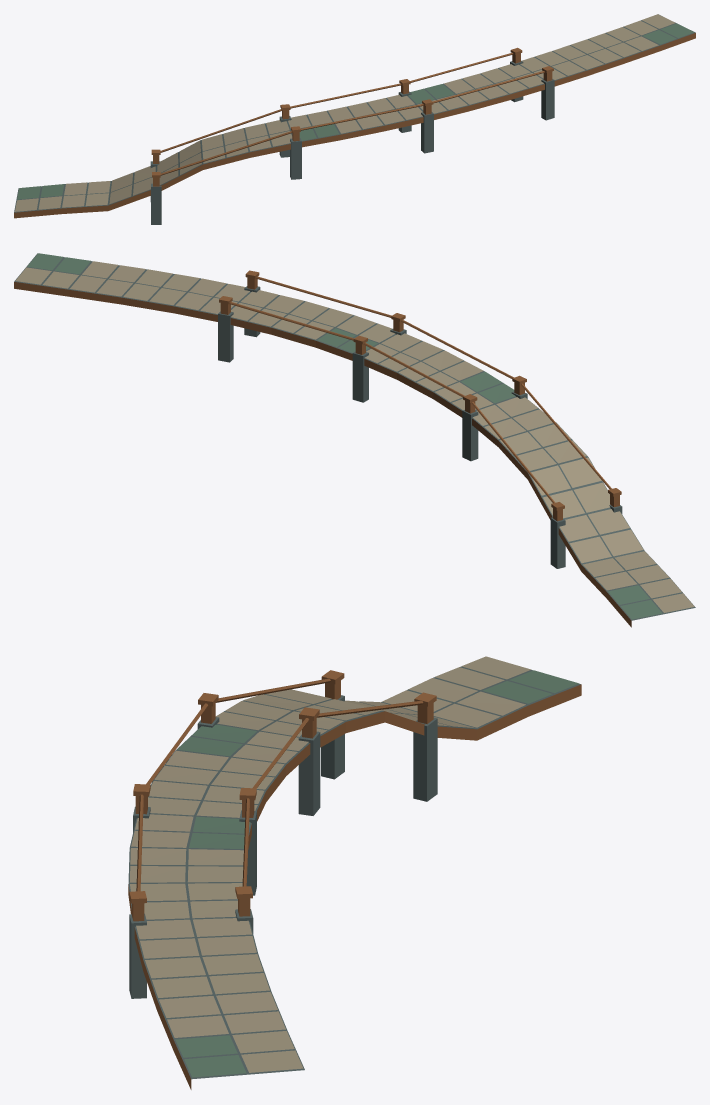
The model's file is 3_pilgrims_cross_1.glb.
3 views of the same model, one above another, from view 1: azimuth 30°, elevation 25°; view 2: azimuth 150°, elevation 25°; view 3: azimuth 270°, elevation 25° (orthographic). The views are drawn at different scales.
Visible parts, largest first — view 1: Detail_10_11, Deck_10_11-col, Detail_11_11; view 2: Detail_10_11, Deck_10_11-col, Detail_11_11; view 3: Detail_10_11, Deck_10_11-col, Detail_11_11, Deck_11_11-col.
Part boxes in pixels (x1=…): Detail_10_11: x1=14, y1=33, x2=660, y2=224; Deck_10_11-col: x1=14, y1=33, x2=659, y2=212; Detail_11_11: x1=606, y1=14, x2=695, y2=50; Detail_10_11: x1=68, y1=265, x2=694, y2=627; Deck_10_11-col: x1=69, y1=261, x2=695, y2=620; Detail_11_11: x1=14, y1=253, x2=118, y2=296; Detail_10_11: x1=128, y1=656, x2=581, y2=1050; Deck_10_11-col: x1=128, y1=666, x2=580, y2=1039; Detail_11_11: x1=167, y1=1011, x2=303, y2=1089; Deck_11_11-col: x1=174, y1=1031, x2=304, y2=1079.
Size of the model in its own units: 30.29 by 5.08 by 9.77.
